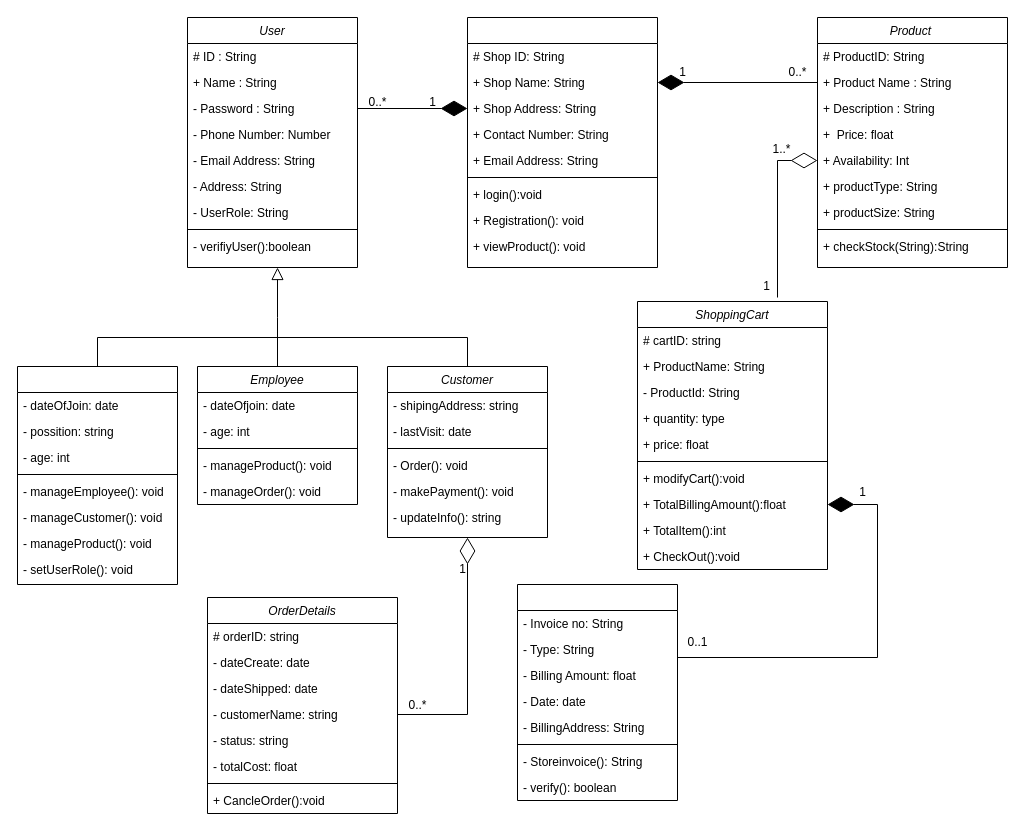
Some shapes in this 1025 by 834 pixel diagram are drawn without their labels. Here are the shapes that lost their labels. From the top down, the box of each, then its label:
(466, 16, 658, 268): Coffee Shop
(16, 366, 178, 584): Admin
(516, 584, 678, 800): Payment
